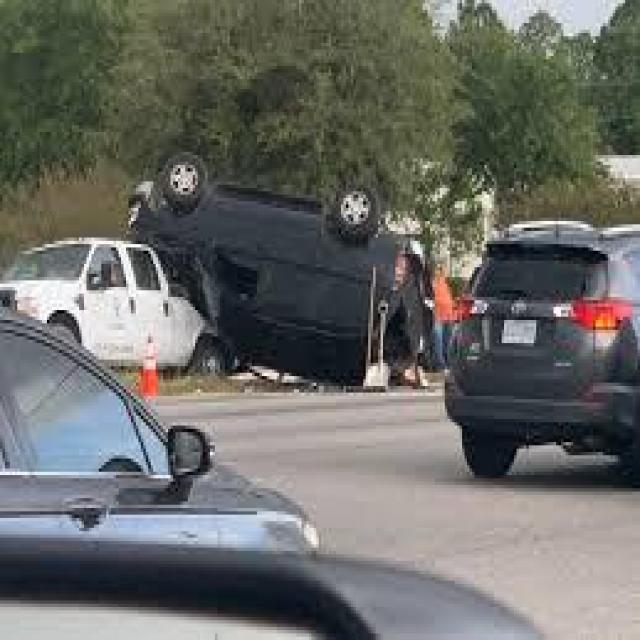severe: (0, 150, 437, 377)
